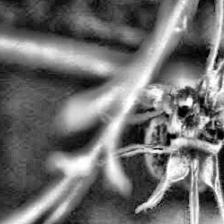Gray Mold: (114, 0, 224, 224)
